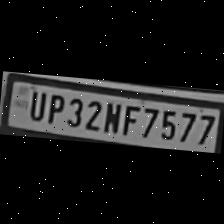2: (81, 95, 103, 131)
3: (62, 92, 84, 127)
5: (155, 105, 178, 141)
7: (192, 109, 216, 145), (174, 108, 196, 143), (137, 103, 158, 139)
F: (120, 101, 140, 136)
N: (100, 97, 121, 133)
P: (44, 90, 64, 124)
U: (24, 86, 46, 121)
